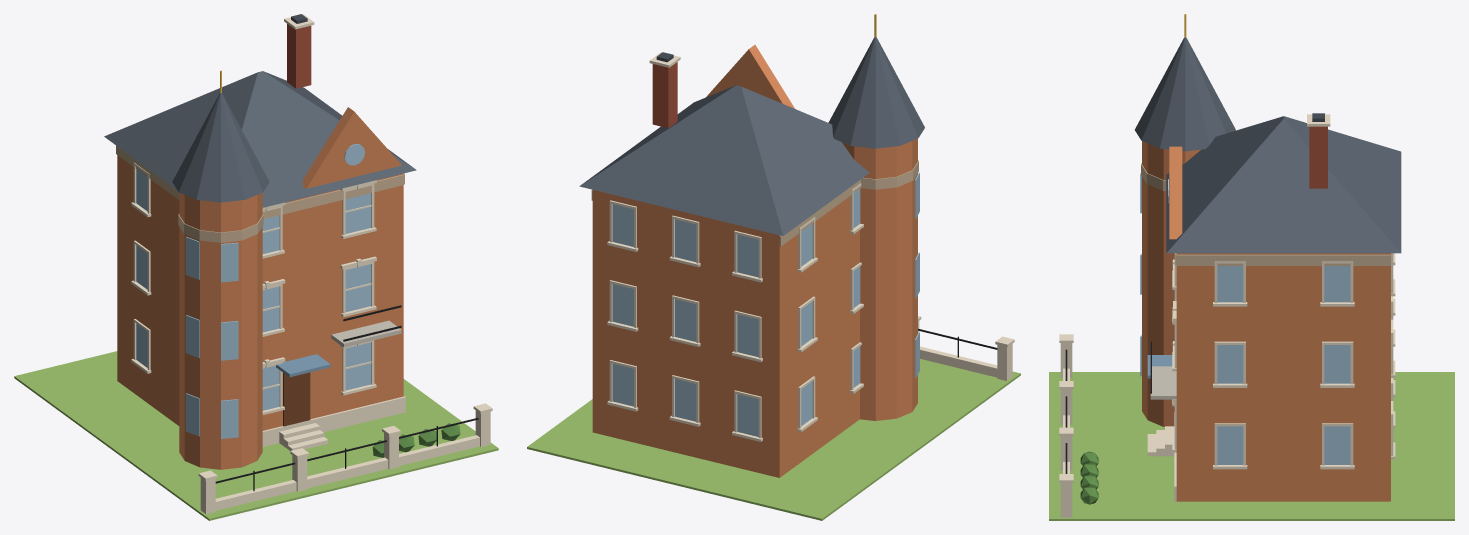
The model's file is Konut_villa_artnouveau_Hafif.fbx.
3 views of the same model, side by side, from view 1: azimuth 30°, elevation 25°; view 2: azimuth 150°, elevation 25°; view 3: azimuth 270°, elevation 25° (orthographic). The views are drawn at different scales.
Visible parts, largest first — view 1: Konut_villa_artnouveau_Hafif; view 2: Konut_villa_artnouveau_Hafif; view 3: Konut_villa_artnouveau_Hafif.
Part boxes in pixels (box(x1,y1,x2,y2)): Konut_villa_artnouveau_Hafif: box(14, 14, 498, 520); Konut_villa_artnouveau_Hafif: box(527, 14, 1020, 520); Konut_villa_artnouveau_Hafif: box(1049, 14, 1454, 520).
Bounding box in the file's own units: 12 × 15.18 × 14.
